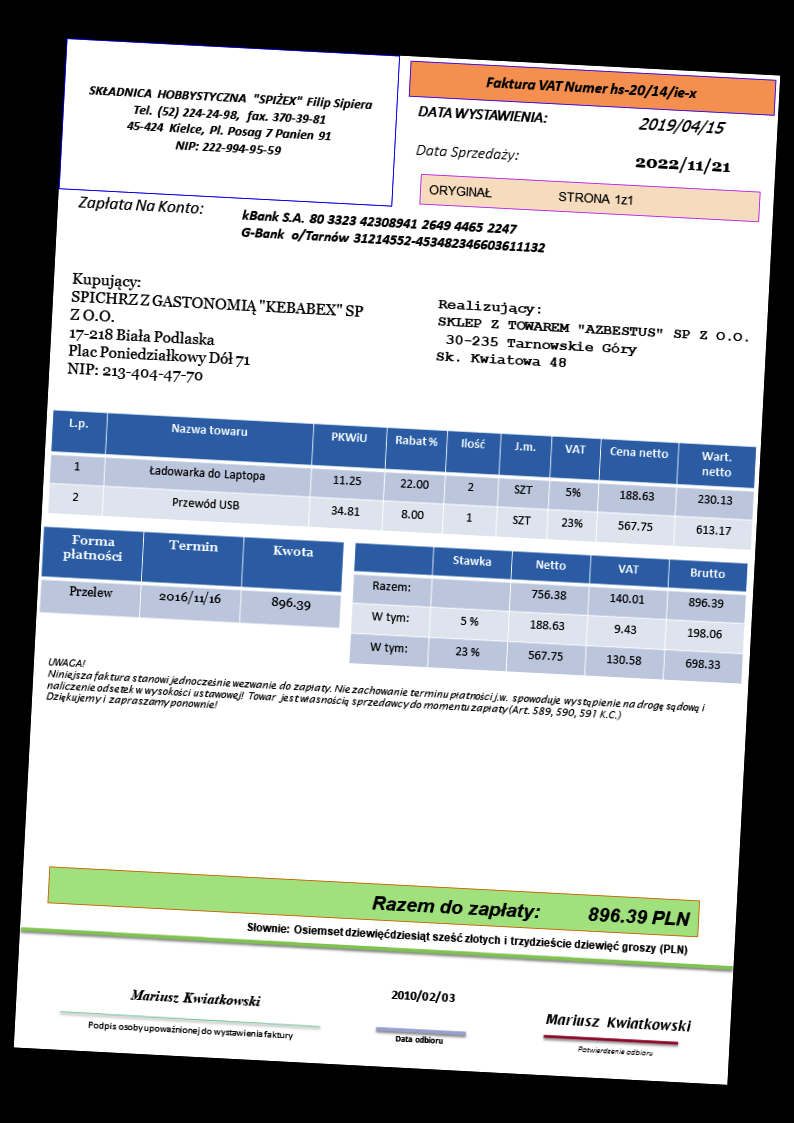Table: (45, 408, 759, 554), (347, 540, 748, 685), (38, 524, 344, 629)
TextBox: (43, 653, 710, 739), (61, 266, 370, 394), (431, 294, 751, 382), (84, 81, 375, 162), (244, 916, 693, 960), (237, 205, 549, 255), (369, 889, 694, 933), (483, 73, 698, 103), (84, 1015, 296, 1045), (426, 180, 637, 209), (543, 1009, 697, 1037), (127, 983, 264, 1011), (73, 192, 207, 218), (416, 101, 550, 126), (413, 139, 521, 166), (631, 152, 732, 179), (635, 113, 728, 138), (575, 1041, 656, 1062), (387, 985, 457, 1008), (392, 1031, 446, 1047)
